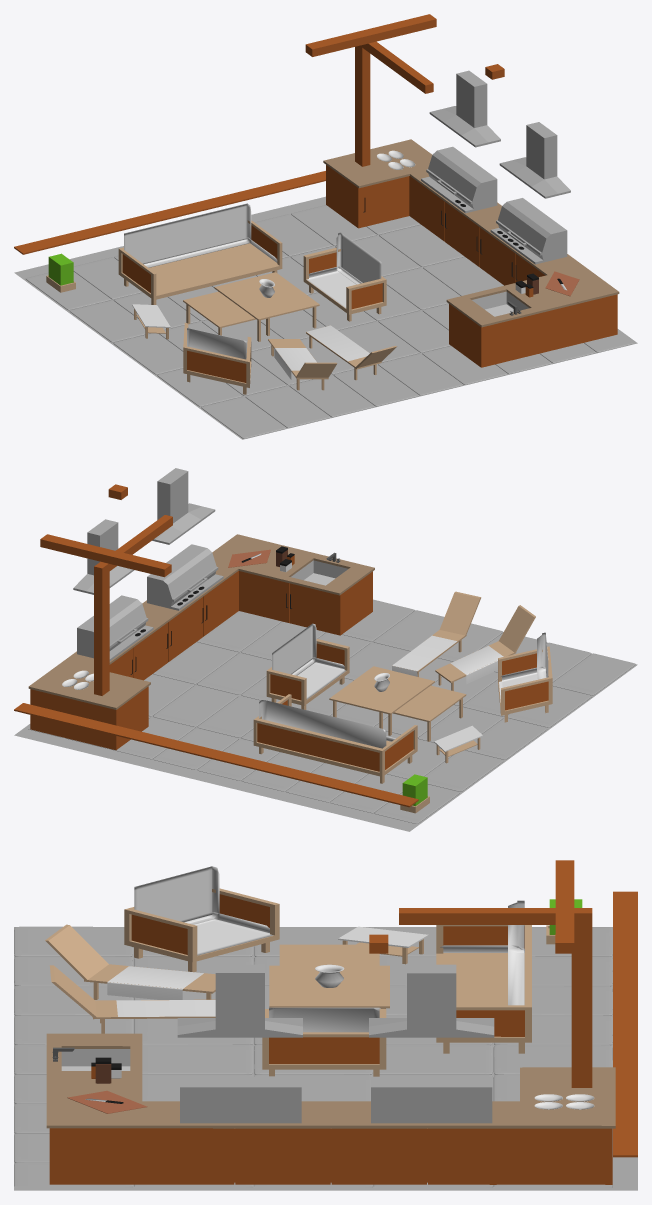
3 views of the same model, one above another, from view 1: azimuth 30°, elevation 25°; view 2: azimuth 150°, elevation 25°; view 3: azimuth 270°, elevation 25° (orthographic). The views are drawn at different scales.
Visible parts, largest first — view 1: Cube.200, Cube.194, Cube.225, Cube.227, Cube.213, Cube.215, Cube.218, Cube.206, Cube.230, Cube.228, Cube.231, nl_floor (+16 smaller); view 2: Cube.200, Cube.194, Cube.225, nl_floor, Cube.218, Cube.206, Cube.227, Cube.228, Cube.204, Cube.231, Cube.213, Cube.230 (+17 smaller); view 3: Cube.200, Cube.194, Cube.225, Cube.227, Cube.218, Cube.206, Cube.231, Cube.228, Cube.230, Cube.215, nl_floor, Cube.210 (+19 smaller).
Boxes of the visible parts, <box> form: Cube.200: <box>25,205,632,438</box>; Cube.194: <box>326,165,617,367</box>; Cube.225: <box>323,139,619,327</box>; Cube.227: <box>429,70,570,198</box>; Cube.213: <box>124,203,251,267</box>; Cube.215: <box>118,220,282,304</box>; Cube.218: <box>183,272,319,341</box>; Cube.206: <box>14,171,325,254</box>; Cube.230: <box>421,146,497,213</box>; Cube.228: <box>490,198,567,264</box>; Cube.231: <box>355,41,433,166</box>; nl_floor: <box>14,196,637,439</box>; Cube.200: <box>28,599,635,823</box>; Cube.194: <box>30,571,372,750</box>; Cube.225: <box>28,534,374,709</box>; nl_floor: <box>14,610,637,831</box>; Cube.218: <box>329,666,466,741</box>; Cube.206: <box>14,703,418,807</box>; Cube.227: <box>73,468,215,594</box>; Cube.228: <box>147,544,223,610</box>; Cube.204: <box>257,700,413,771</box>; Cube.231: <box>94,515,172,695</box>; Cube.213: <box>259,700,386,748</box>; Cube.230: <box>77,595,153,661</box>; Cube.200: <box>14,926,612,1187</box>; Cube.194: <box>49,1128,612,1184</box>; Cube.225: <box>46,1033,615,1128</box>; Cube.227: <box>177,964,494,1037</box>; Cube.218: <box>269,944,389,1008</box>; Cube.206: <box>613,891,637,1157</box>; Cube.231: <box>399,908,592,1087</box>; Cube.228: <box>180,1076,301,1123</box>; Cube.230: <box>371,1076,492,1123</box>; Cube.215: <box>436,925,531,1053</box>; nl_floor: <box>14,927,637,1190</box>; Cube.210: <box>134,866,219,924</box>.
Bounding box in the file's own units: 10 × 4.35 × 10.
